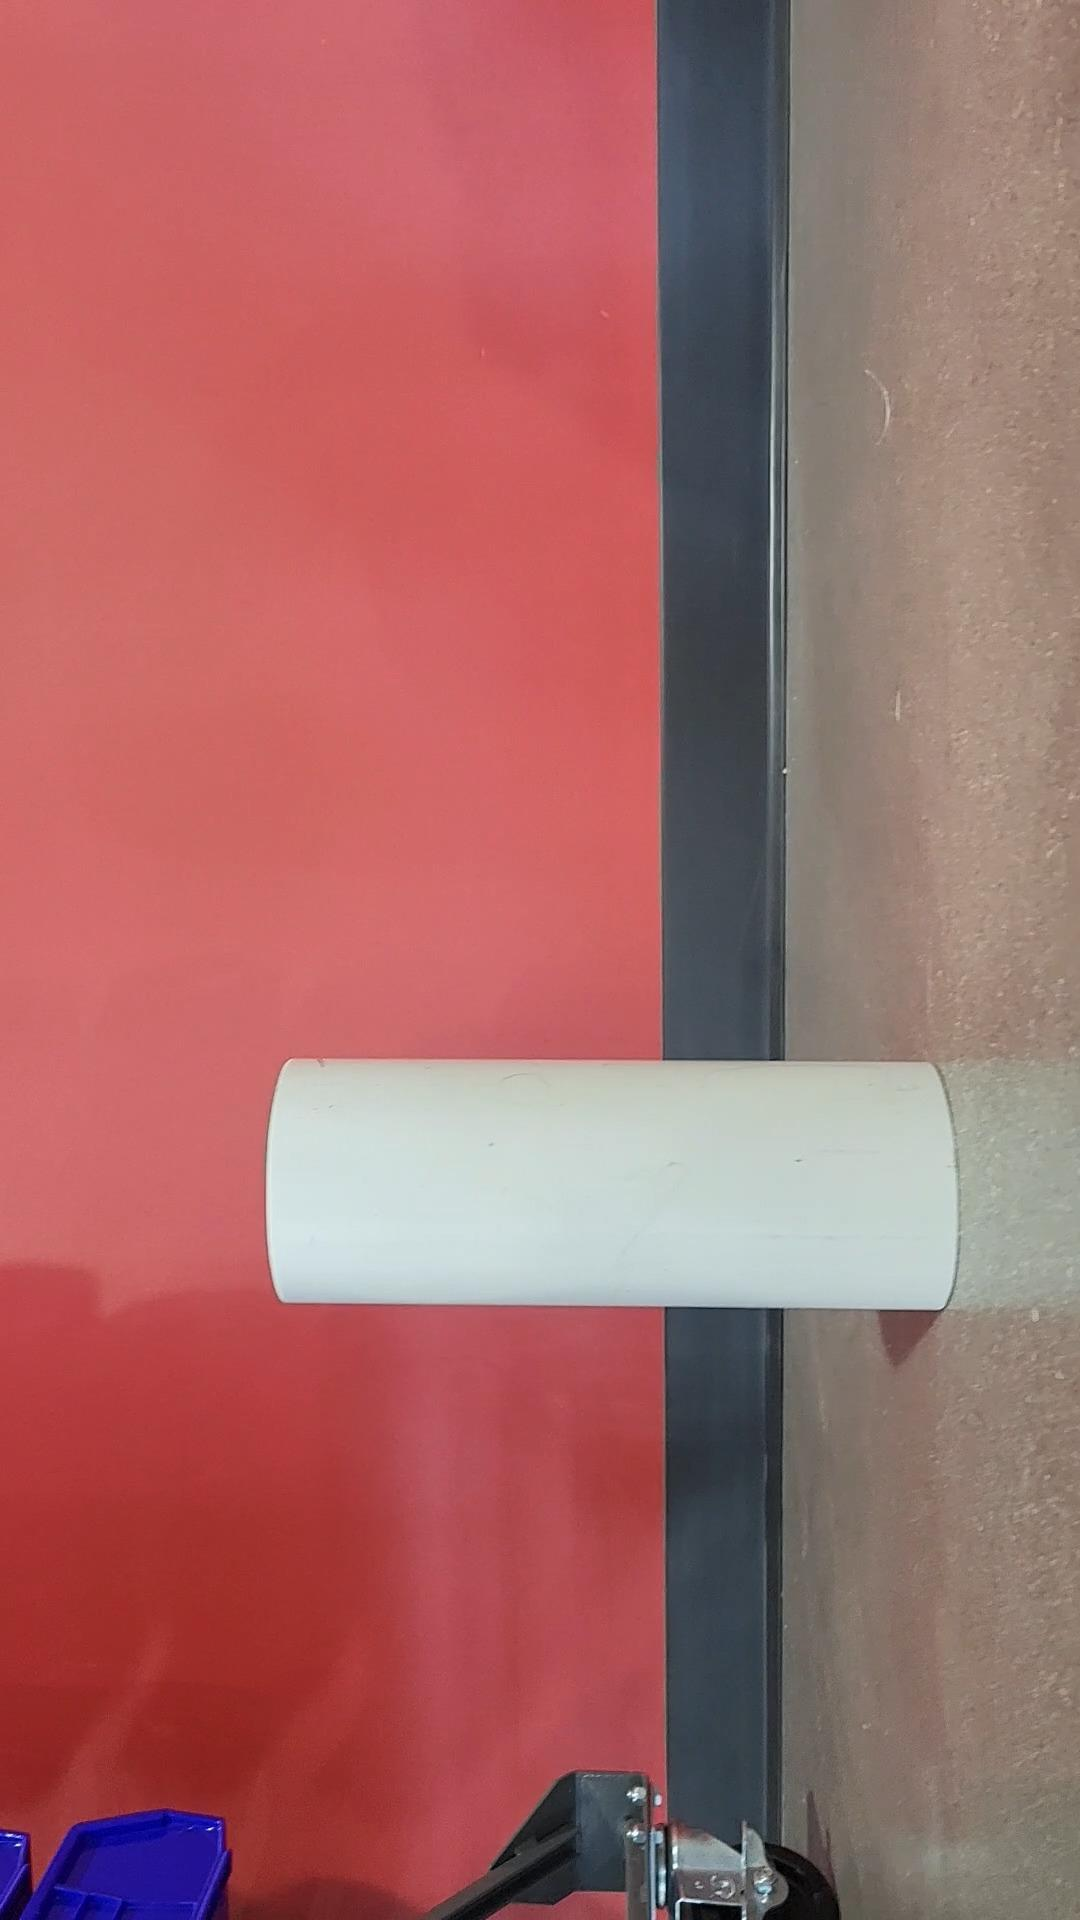coral: (265, 1060, 963, 1315)
